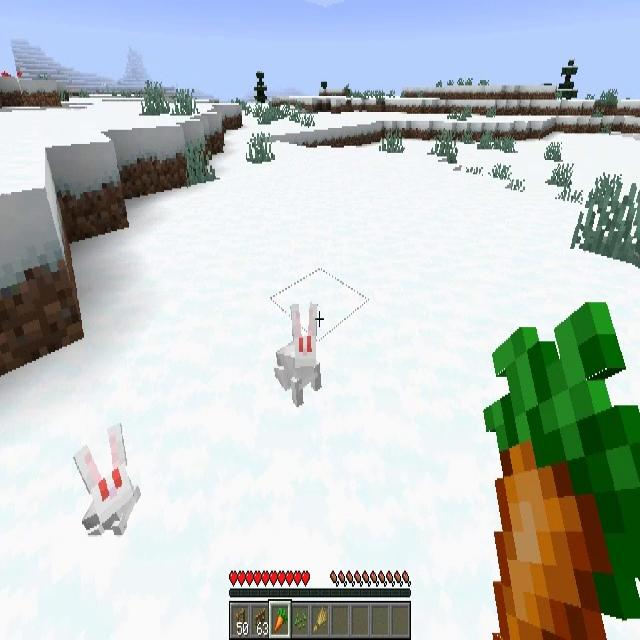rabbit: (73, 423, 140, 536), (272, 302, 322, 406)
